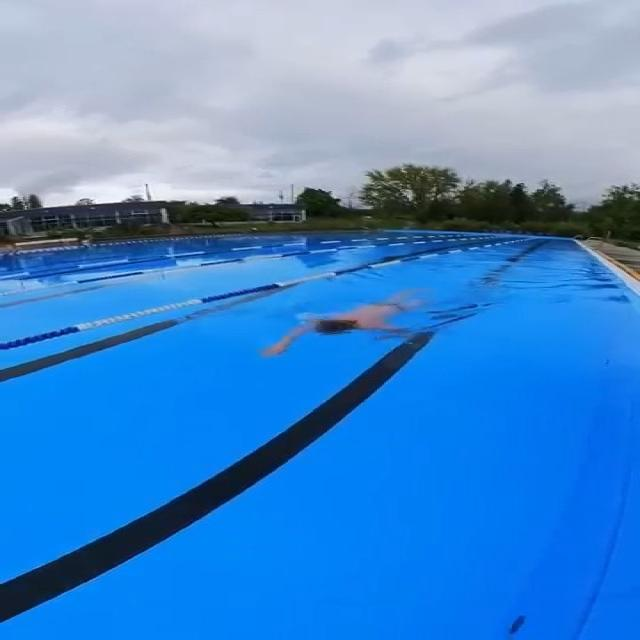Swimming: (252, 294, 446, 364)
